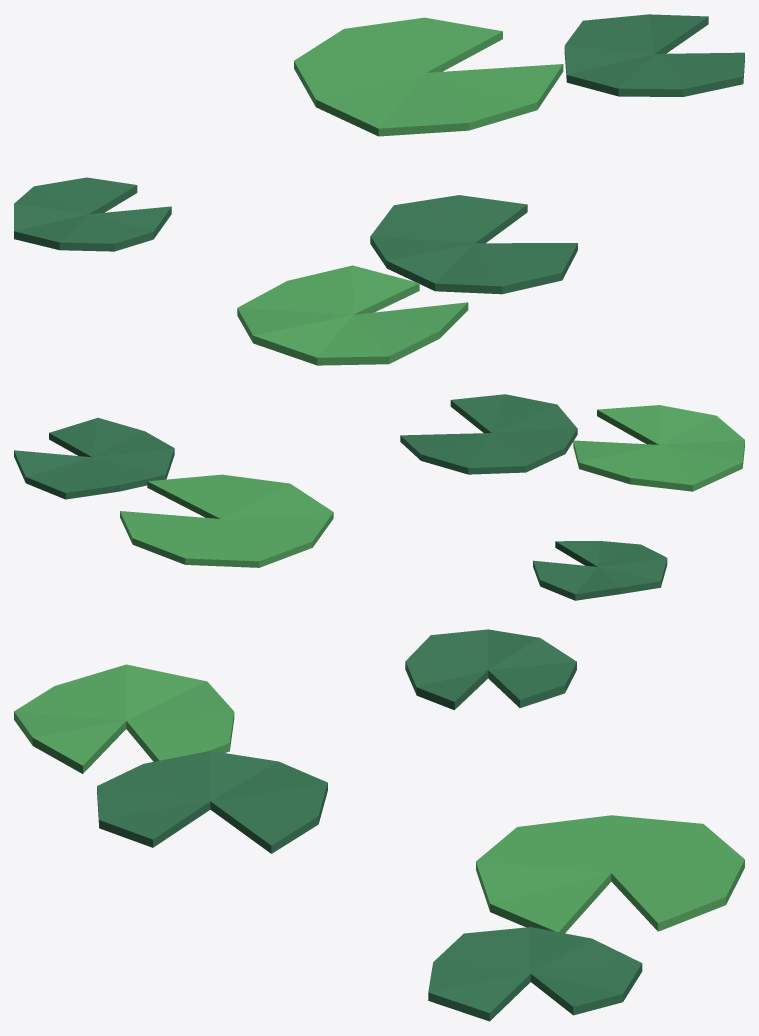
File: lily_pad_c.glb
The picture shows the model from 3 angles, top to bottom: view 1: azimuth 30°, elevation 25°; view 2: azimuth 150°, elevation 25°; view 3: azimuth 270°, elevation 25°; orthographic projection. The views are drawn at different scales.
Visible parts, largest first — view 1: LilyPadC; view 2: LilyPadC; view 3: LilyPadC.
Part boxes in pixels (left/top/right/bottom): LilyPadC: left=14, top=14, right=744, bottom=365; LilyPadC: left=14, top=394, right=744, bottom=600; LilyPadC: left=14, top=629, right=744, bottom=1021.
Bounding box in the file's own units: 1.37 × 0.0326 × 1.1.
